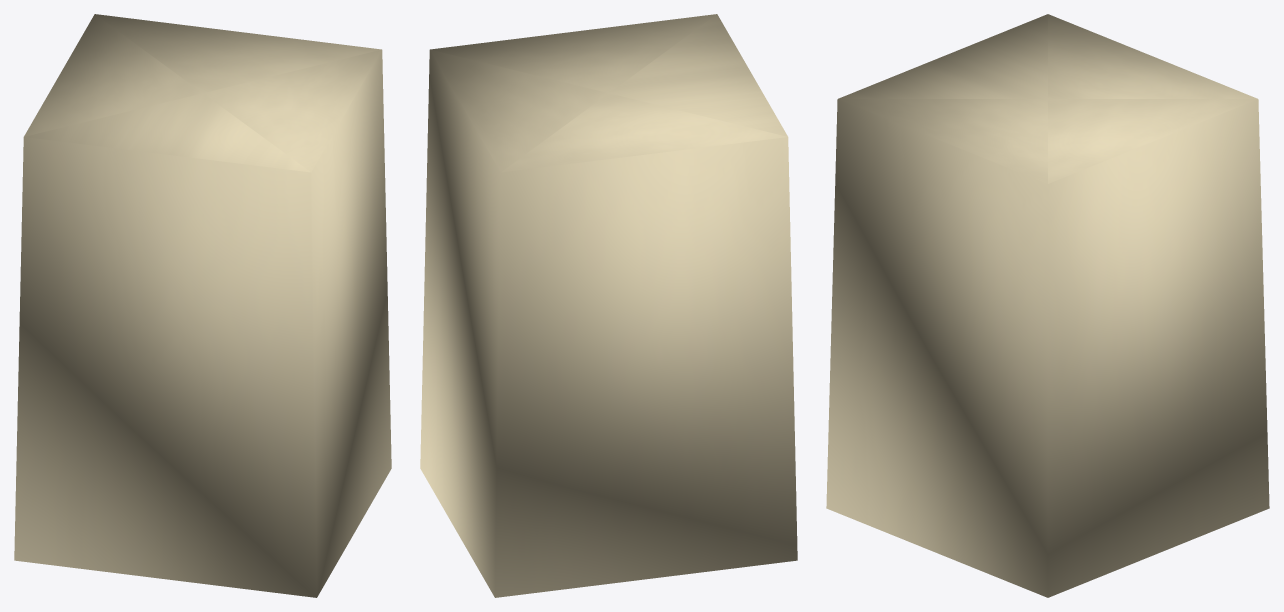
File: Candle_1_LOD2.gltf
3 renders of one model, left to right at view 1: azimuth 30°, elevation 25°; view 2: azimuth 150°, elevation 25°; view 3: azimuth 270°, elevation 25°, orthographic. The views are drawn at different scales.
Parts seen in each view (by area): view 1: Candle_1_LOD2; view 2: Candle_1_LOD2; view 3: Candle_1_LOD2.
Boxes of the visible parts, box(x1,y1,x2,y2) form: Candle_1_LOD2: box(14, 14, 391, 597); Candle_1_LOD2: box(420, 14, 797, 597); Candle_1_LOD2: box(826, 14, 1269, 597).
Size of the model in its own units: 0.1051 by 0.1122 by 0.11.
Materials: 1 (1 with a texture image).
